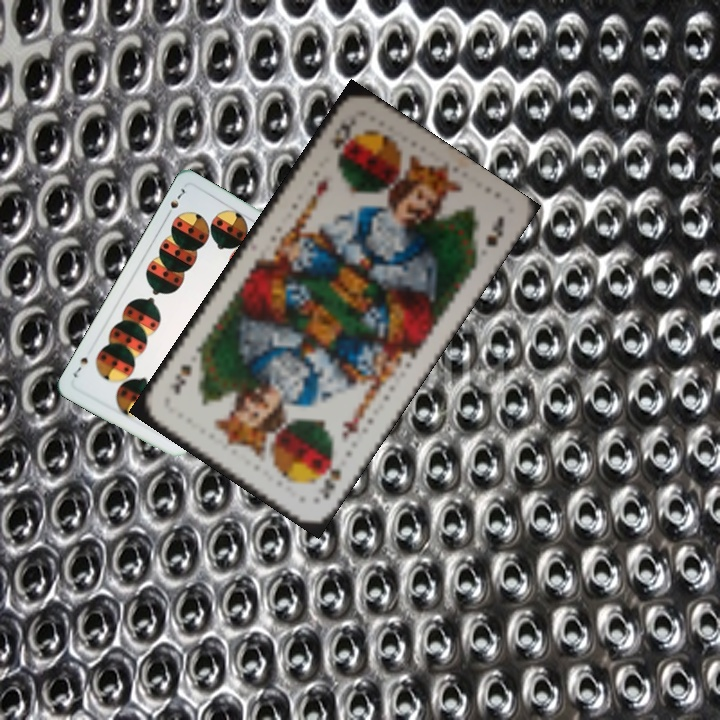S7: (162, 184, 188, 220)
SK: (315, 454, 344, 502), (328, 115, 358, 152)
